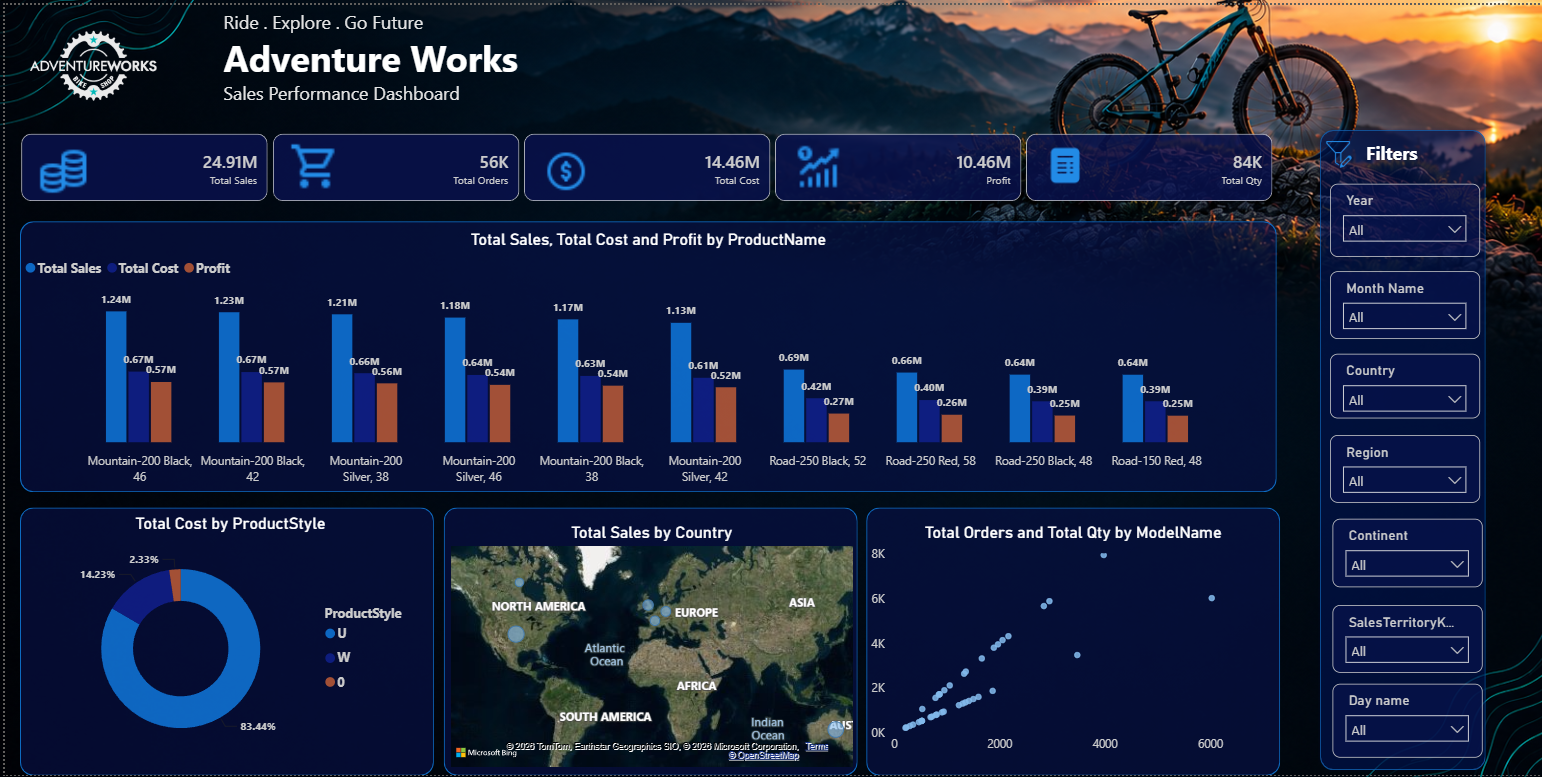

Layout of this report page (visuals, bound fields, positions):
{"tool":"powerbi","page":{"name":"Overview","canvas":[1600,800],"ordinal":1},"visuals":[{"type":"shape","box":[1362.9,125.7,180,672.9],"z":1000},{"type":"slicer","fields":{"Values":["Territories.Continent"]},"box":[1378.6,534.3,155.7,71.4],"z":2000},{"type":"slicer","fields":{"Values":["Territories.Country"]},"box":[1377.1,362.9,155.7,67.1],"z":3000},{"type":"slicer","fields":{"Values":["Territories.Region"]},"box":[1377.1,447.1,155.7,70],"z":4000},{"type":"slicer","fields":{"Values":["Territories.SalesTerritoryKey"]},"box":[1378.6,622.9,155.7,70],"z":5000},{"type":"slicer","fields":{"Values":["Calender Table.Year"]},"box":[1377.1,185.7,155.7,75.7],"z":6000},{"type":"slicer","fields":{"Values":["Calender Table.Day name"]},"box":[1378.6,705.7,155.7,77.1],"z":7000},{"type":"slicer","fields":{"Values":["Calender Table.Month Name"]},"box":[1377.1,277.1,155.7,70],"z":8000},{"type":"shape","box":[32.9,225.7,545.7,574.3],"z":9000},{"type":"shape","box":[582.9,224.3,757.1,285.7],"z":11000},{"type":"shape","box":[582.9,518.6,757.1,280],"z":12000},{"type":"cardVisual","fields":{"Data":["Sales.Total Sales","Sales.Total Orders","Sales.Total Cost","Sales.Profit","Sales.Total Qty"]},"box":[15.7,117.1,1347.1,104.3],"z":13000},{"type":"image","box":[15.7,0,152.9,125.7],"z":14000},{"type":"image","box":[48.6,135.7,65.7,70],"z":15000},{"type":"image","box":[305.7,141.4,57.1,65.7],"z":16000},{"type":"image","box":[567.1,135.7,51.4,70],"z":17000},{"type":"image","box":[835.7,135.7,51.4,70],"z":18000},{"type":"image","box":[1097.1,137.1,57.1,70],"z":19000},{"type":"textbox","box":[1408.6,135.7,102.9,40],"z":25000},{"type":"image","box":[1362.9,140,45.7,28.6],"z":26000},{"type":"textbox","box":[221.4,0,357.1,125.7],"z":27000},{"type":"decompositionTreeVisual","fields":{"Analyze":["Sales.Total Sales"],"ExplainBy":["Territories.Country","Territories.Region"]},"box":[32.9,247.1,524.3,551.4],"z":27001},{"type":"lineChart","fields":{"Category":["Calender Table.Year","Calender Table.Month number"],"Y":["Sales.Total Sales running total in Date"]},"box":[582.9,247.1,757.1,251.4],"z":27002},{"type":"kpi","fields":{"Indicator":["Sales.Total Sales"],"TrendLine":["Calender Table.start of month"],"Goal":["Sales.target of sales"]},"box":[592.9,534.3,747.1,264.3],"z":27003}]}

Visuals, with their boxes in screenshot pixels (x1, y1, x2, y2), scaled from the page's 1600x800 canvas onto the 1542x777 screenshot:
shape: (1313,122,1487,776)
slicer - Territories.Continent: (1329,519,1479,588)
slicer - Territories.Country: (1327,352,1477,418)
slicer - Territories.Region: (1327,434,1477,502)
slicer - Territories.SalesTerritoryKey: (1329,605,1479,673)
slicer - Calender Table.Year: (1327,180,1477,254)
slicer - Calender Table.Day name: (1329,685,1479,760)
slicer - Calender Table.Month Name: (1327,269,1477,337)
shape: (32,219,558,776)
shape: (562,218,1291,495)
shape: (562,504,1291,776)
cardVisual - Sales.Total Sales x Sales.Total Orders: (15,114,1313,215)
image: (15,0,162,122)
image: (47,132,110,200)
image: (295,137,350,201)
image: (547,132,596,200)
image: (805,132,855,200)
image: (1057,133,1112,201)
textbox: (1358,132,1457,171)
image: (1313,136,1358,164)
textbox: (213,0,558,122)
decompositionTreeVisual - Sales.Total Sales x Territories.Country: (32,240,537,776)
lineChart - Calender Table.Year x Calender Table.Month number: (562,240,1291,484)
kpi - Sales.Total Sales x Calender Table.start of month: (571,519,1291,776)
